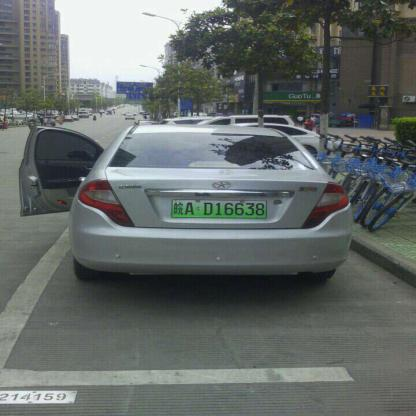lp: (170, 200, 267, 219)
